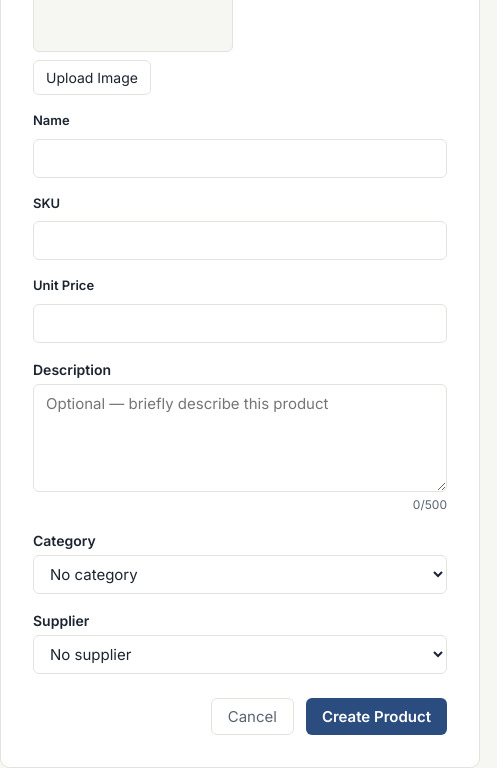
it: ProductForm › shows validation errors for empty required fields
(page scrolled)
Click the button "Create Product" at (376, 716), box [306,698,447,734]
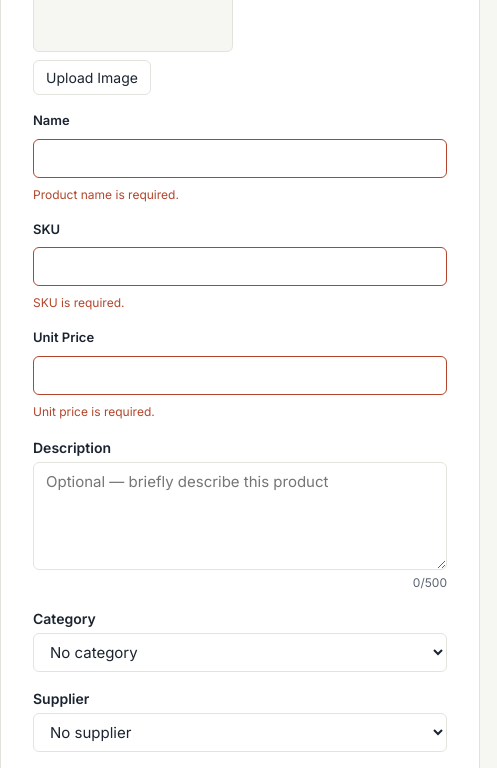
Result: the text "Product name is required." is shown at [33,186,179,202]
Result: the text "SKU is required." is shown at [33,295,124,310]
Result: the text "Unit price is required." is shown at [33,404,155,418]
